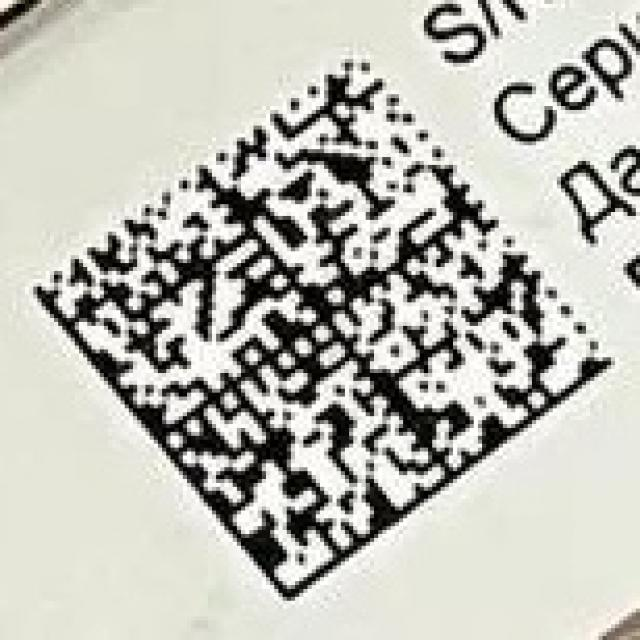QR_CODE: (31, 54, 614, 601)
